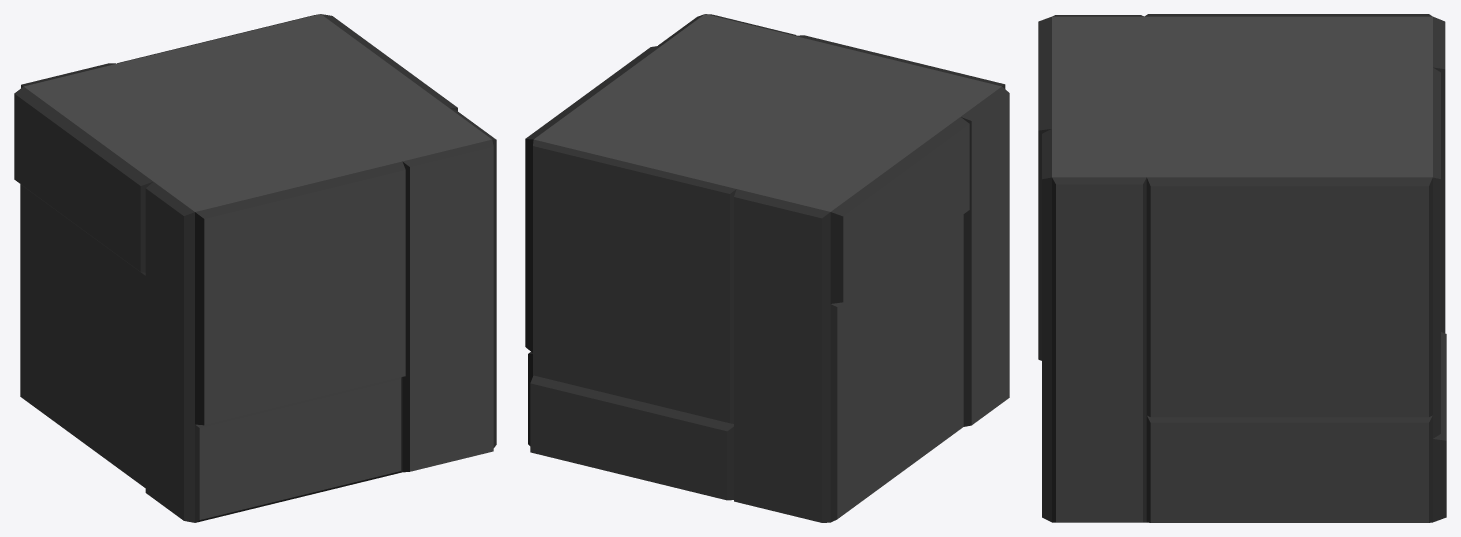
Rendered from HJD_SFB_Platform_04.fbx.
3 views of the same model, side by side, from view 1: azimuth 30°, elevation 25°; view 2: azimuth 150°, elevation 25°; view 3: azimuth 270°, elevation 25° (orthographic). The views are drawn at different scales.
Visible parts, largest first — view 1: HJD_SFB_Asset; view 2: HJD_SFB_Asset; view 3: HJD_SFB_Asset.
Boxes of the visible parts, x1,y1,x2,y2 form: HJD_SFB_Asset: [14, 14, 496, 522]; HJD_SFB_Asset: [525, 14, 1009, 522]; HJD_SFB_Asset: [1038, 14, 1446, 522].
Bounding box in the file's own units: 107 × 100 × 107.
